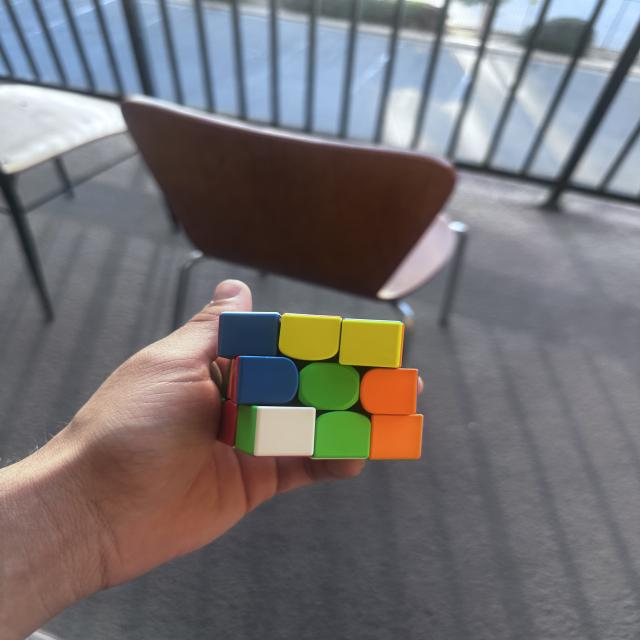sticker: (232, 355, 300, 408), (338, 317, 404, 369), (216, 311, 282, 360), (277, 313, 343, 362), (309, 409, 372, 460), (297, 362, 362, 411), (358, 368, 418, 417), (368, 412, 423, 460), (261, 409, 314, 454)
